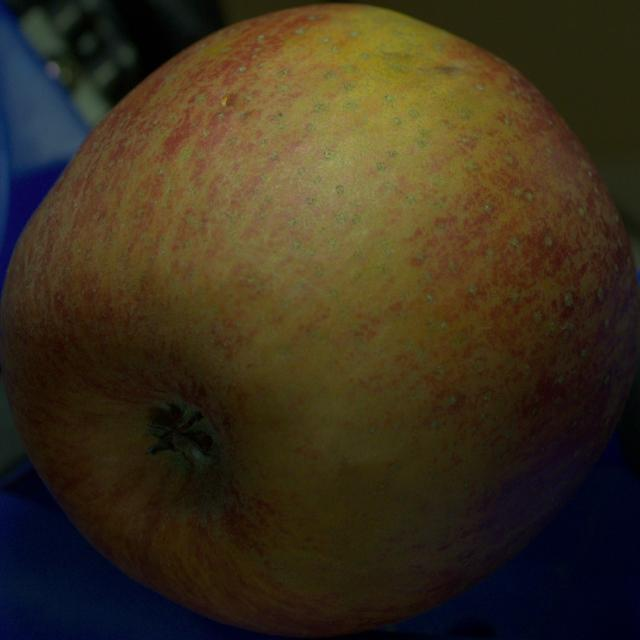apple: (0, 5, 639, 636)
pest: (221, 94, 229, 106)
